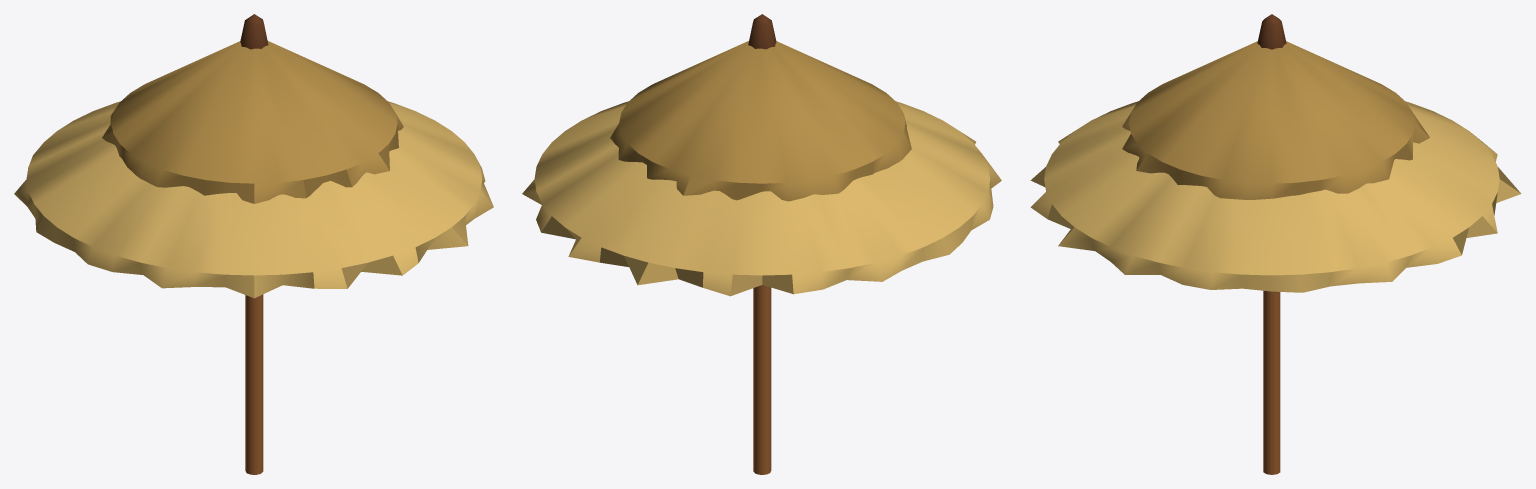
The model's file is beach_umbrella.glb.
3 renders of one model, left to right at view 1: azimuth 30°, elevation 25°; view 2: azimuth 150°, elevation 25°; view 3: azimuth 270°, elevation 25°, orthographic.
Visible parts, largest first — view 1: beach_umbrella; view 2: beach_umbrella; view 3: beach_umbrella.
Part boxes in pixels (box(x1,y1,x2,y2)): beach_umbrella: box(14, 14, 493, 474); beach_umbrella: box(522, 14, 1001, 474); beach_umbrella: box(1030, 14, 1521, 474).
Size of the model in its own units: 2.88 by 3.1 by 3.02.
